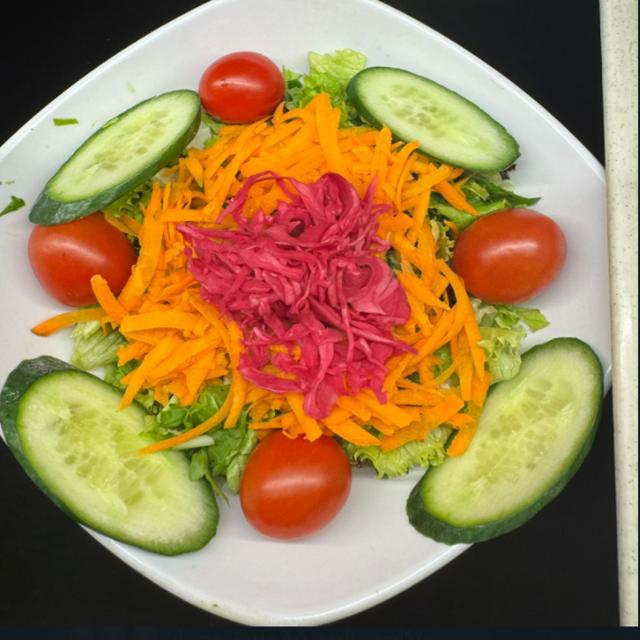yan_yemek: (25, 21, 599, 611)
